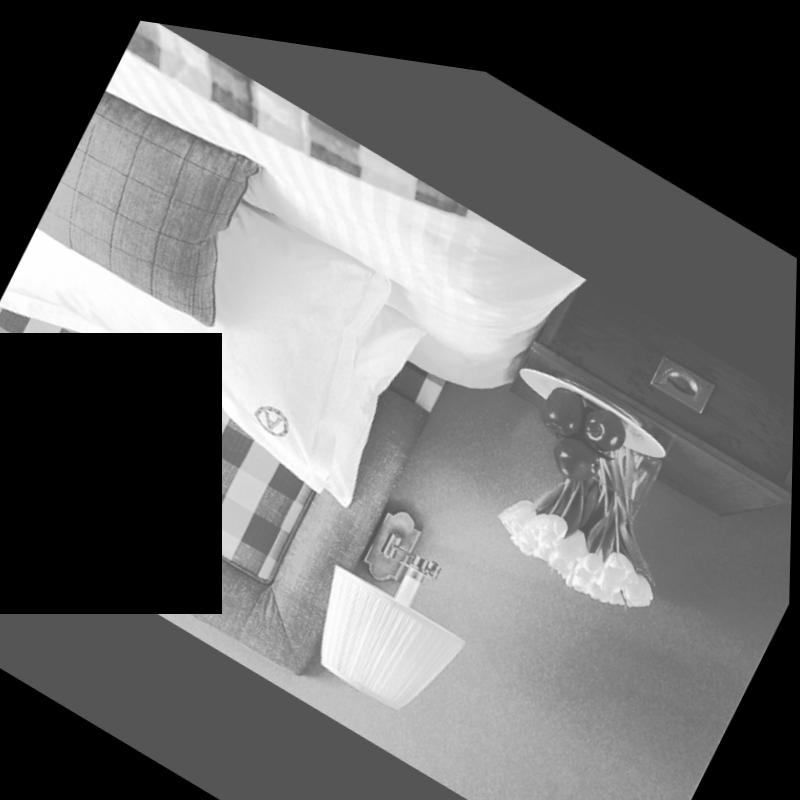pillow: (6, 93, 419, 494), (35, 65, 285, 335)
